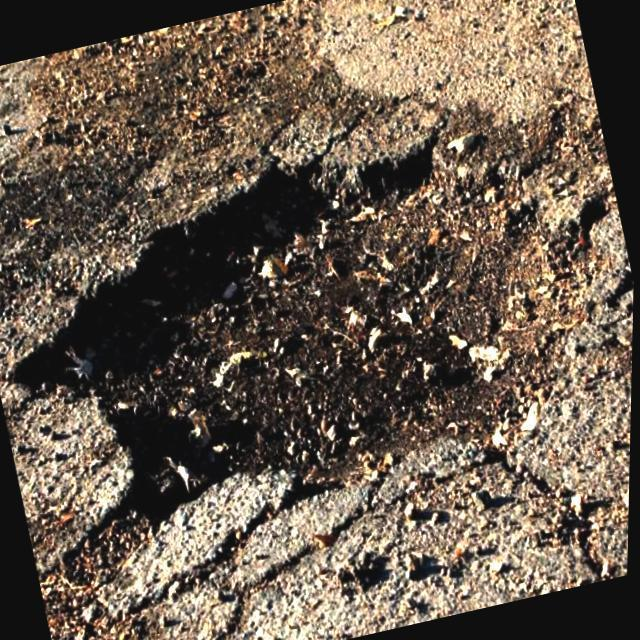Pothole: (17, 142, 614, 533)
